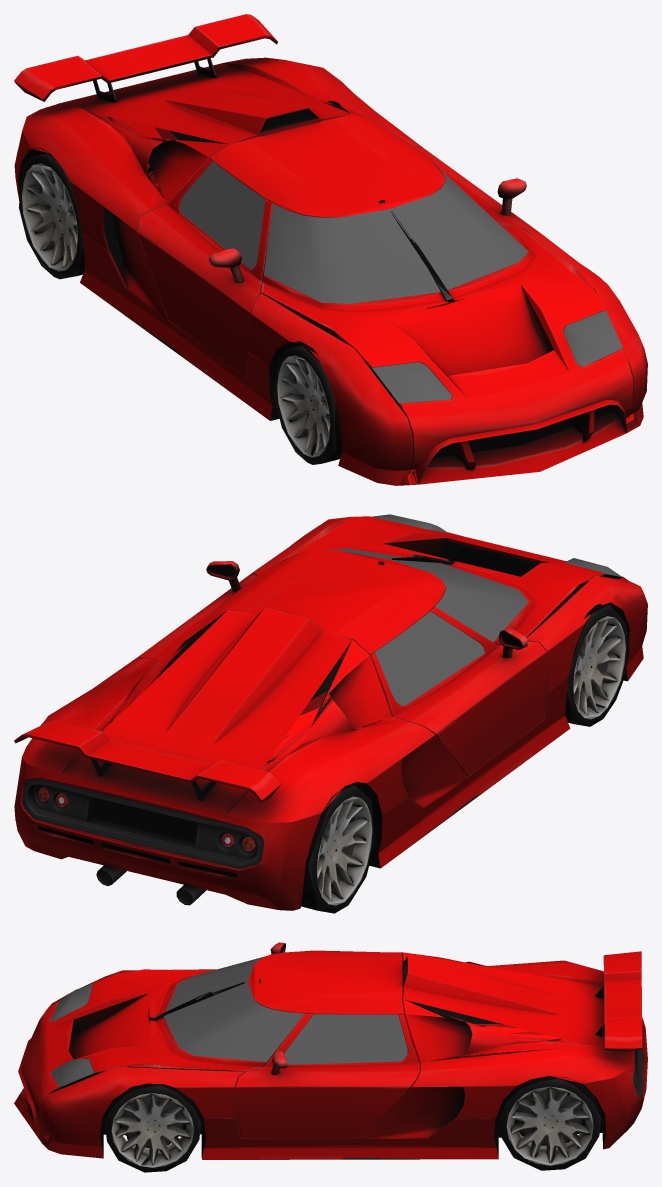
Rendered from Ferrari.glb.
The picture shows the model from 3 angles, top to bottom: view 1: azimuth 30°, elevation 25°; view 2: azimuth 150°, elevation 25°; view 3: azimuth 270°, elevation 25°; orthographic projection. The views are drawn at different scales.
Parts seen in each view (by area): view 1: Sport body, Wheel_H003, Wheel_H002; view 2: Sport body, Wheel_H003, Wheel_H002; view 3: Sport body, Wheel_H001, Wheel_H.
Boxes of the visible parts, bbox=[...] form: Sport body: bbox=[14, 14, 647, 485]; Wheel_H003: bbox=[18, 153, 84, 279]; Wheel_H002: bbox=[274, 343, 346, 464]; Sport body: bbox=[14, 514, 647, 910]; Wheel_H003: bbox=[301, 784, 374, 913]; Wheel_H002: bbox=[563, 598, 628, 726]; Sport body: bbox=[14, 942, 647, 1159]; Wheel_H001: bbox=[499, 1076, 601, 1170]; Wheel_H: bbox=[104, 1083, 201, 1172].
Bounding box in the file's own units: 2.25 × 1.32 × 4.97.
Materials: 4 (3 with a texture image).
